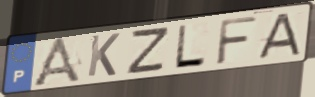A: (29, 34, 84, 86), (253, 11, 304, 61)
F: (213, 15, 259, 67)
K: (85, 31, 122, 79)
L: (172, 23, 208, 70)
Z: (124, 25, 173, 77)
